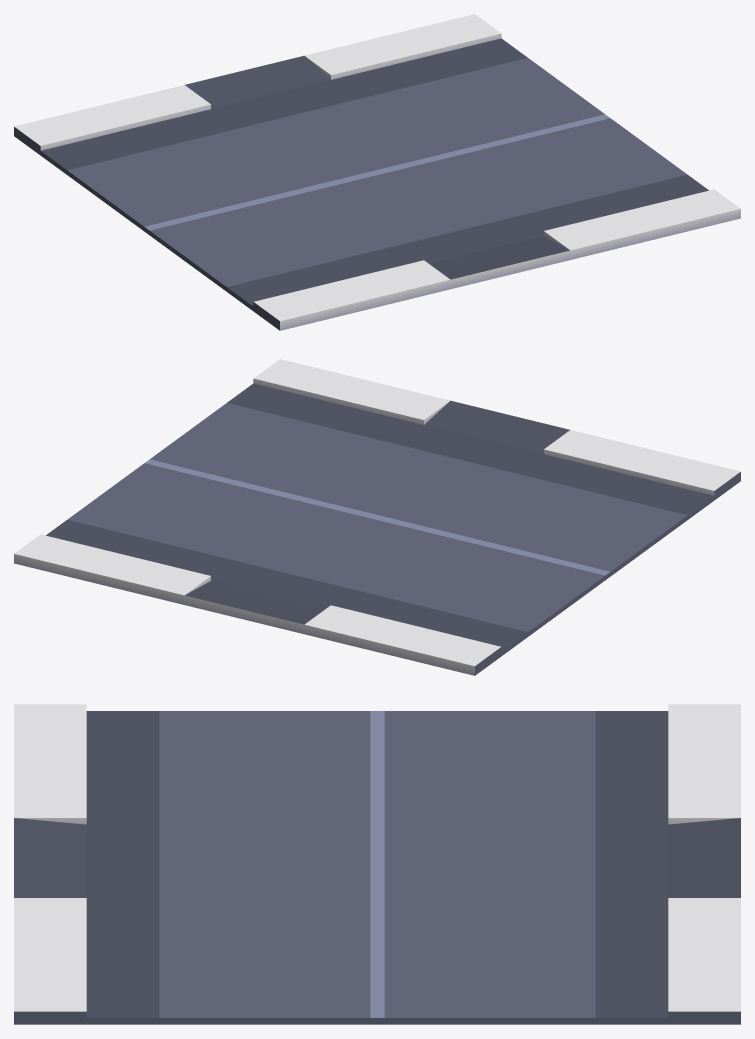
Rendered from road-driveway-double.gltf.
3 views of the same model, one above another, from view 1: azimuth 30°, elevation 25°; view 2: azimuth 150°, elevation 25°; view 3: azimuth 270°, elevation 25° (orthographic). The views are drawn at different scales.
Parts seen in each view (by area): view 1: road-driveway-double; view 2: road-driveway-double; view 3: road-driveway-double.
Boxes of the visible parts, bbox=[...] form: road-driveway-double: bbox=[14, 14, 740, 330]; road-driveway-double: bbox=[14, 359, 740, 675]; road-driveway-double: bbox=[14, 704, 740, 1024].
Bounding box in the file's own units: 1 × 0.02 × 1.
Materials: 1 (1 with a texture image).
